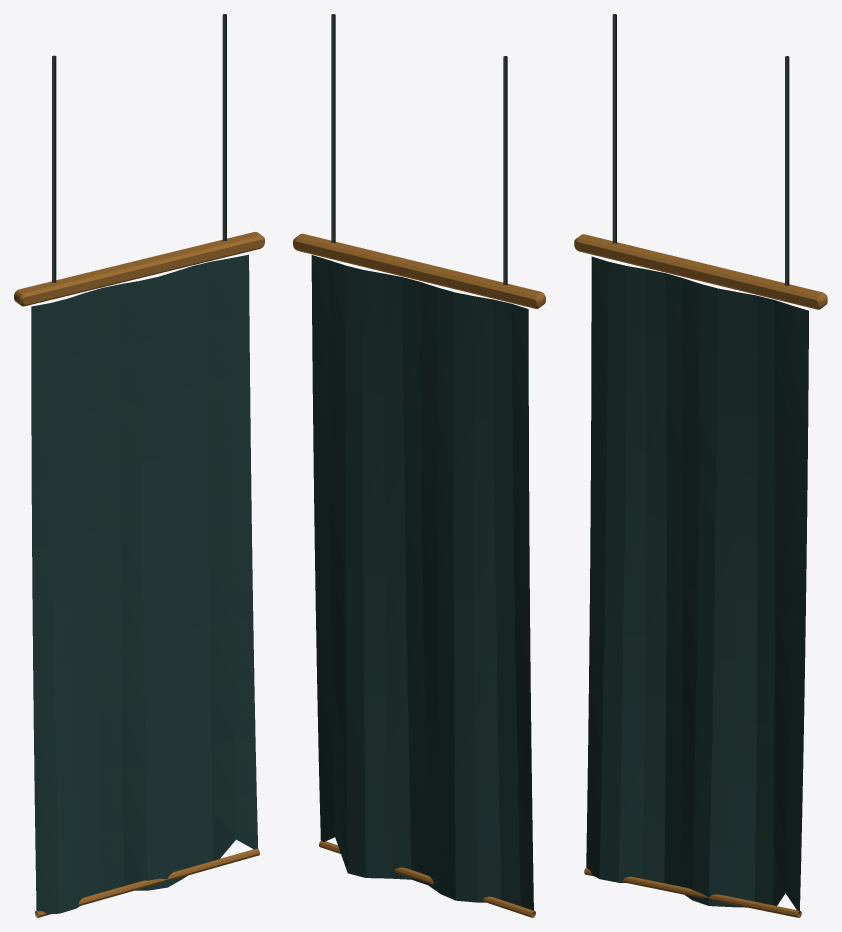
The model's file is banner.obj.
3 views of the same model, side by side, from view 1: azimuth 30°, elevation 25°; view 2: azimuth 150°, elevation 25°; view 3: azimuth 330°, elevation 25° (orthographic).
Visible parts, largest first — view 1: cloth_blank, cloth_back, top_crossbar, ceiling_suspension, bottom_hem; view 2: cloth_back, cloth_blank, top_crossbar, ceiling_suspension, bottom_hem; view 3: cloth_blank, cloth_back, top_crossbar, ceiling_suspension, bottom_hem.
Part boxes in pixels (<box>): cloth_blank: <box>31,254,258,914</box>; cloth_back: <box>50,266,194,913</box>; top_crossbar: <box>14,232,264,306</box>; ceiling_suspension: <box>52,14,226,282</box>; bottom_hem: <box>35,848,259,917</box>; cloth_back: <box>311,255,533,914</box>; cloth_blank: <box>345,270,520,905</box>; top_crossbar: <box>293,233,545,308</box>; ceiling_suspension: <box>331,14,507,285</box>; bottom_hem: <box>319,840,535,917</box>; cloth_blank: <box>586,256,808,913</box>; cloth_back: <box>599,262,757,907</box>; top_crossbar: <box>574,234,827,309</box>; ceiling_suspension: <box>612,14,789,285</box>; bottom_hem: <box>584,867,801,917</box>.
Size of the model in its own units: 1.87 by 6.2 by 0.2189.
